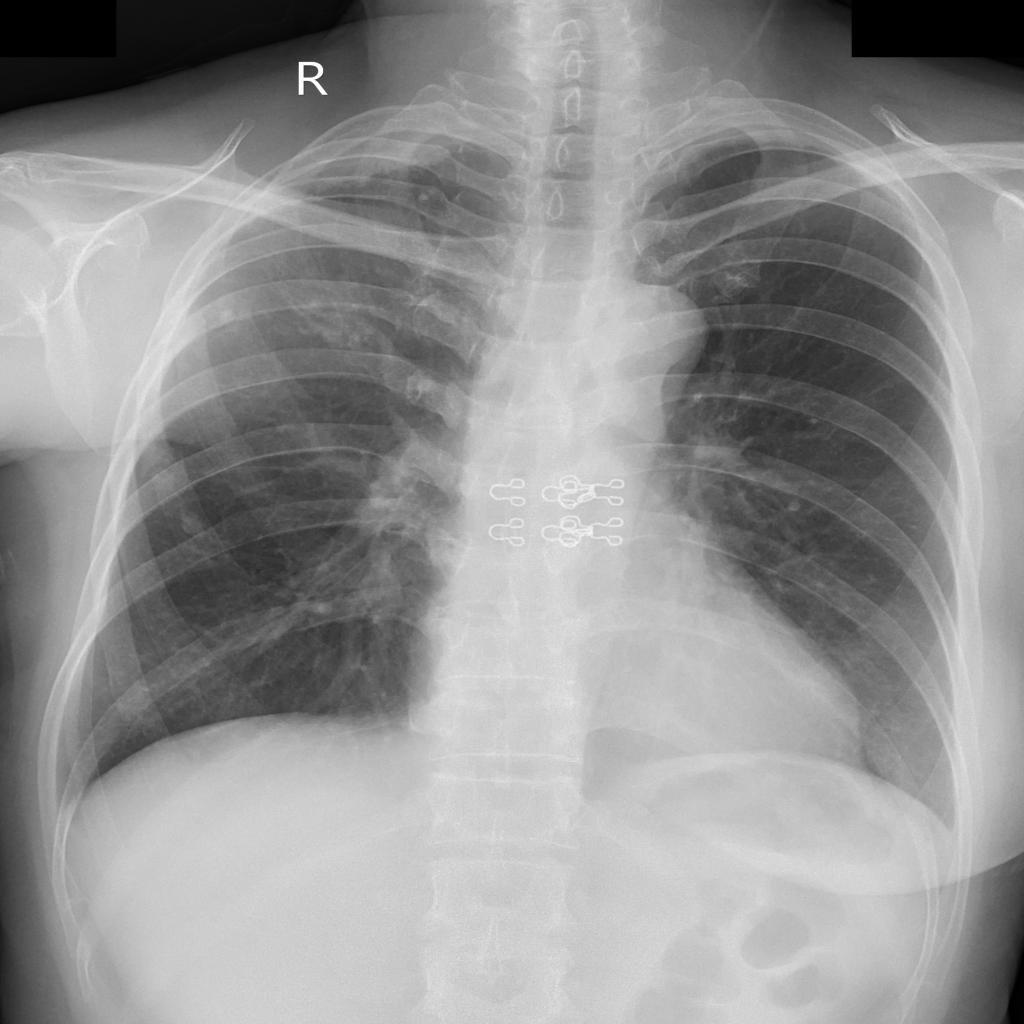Nodule: (309, 283, 380, 350), (232, 354, 282, 396)
